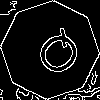Q: (25, 25, 87, 87)
